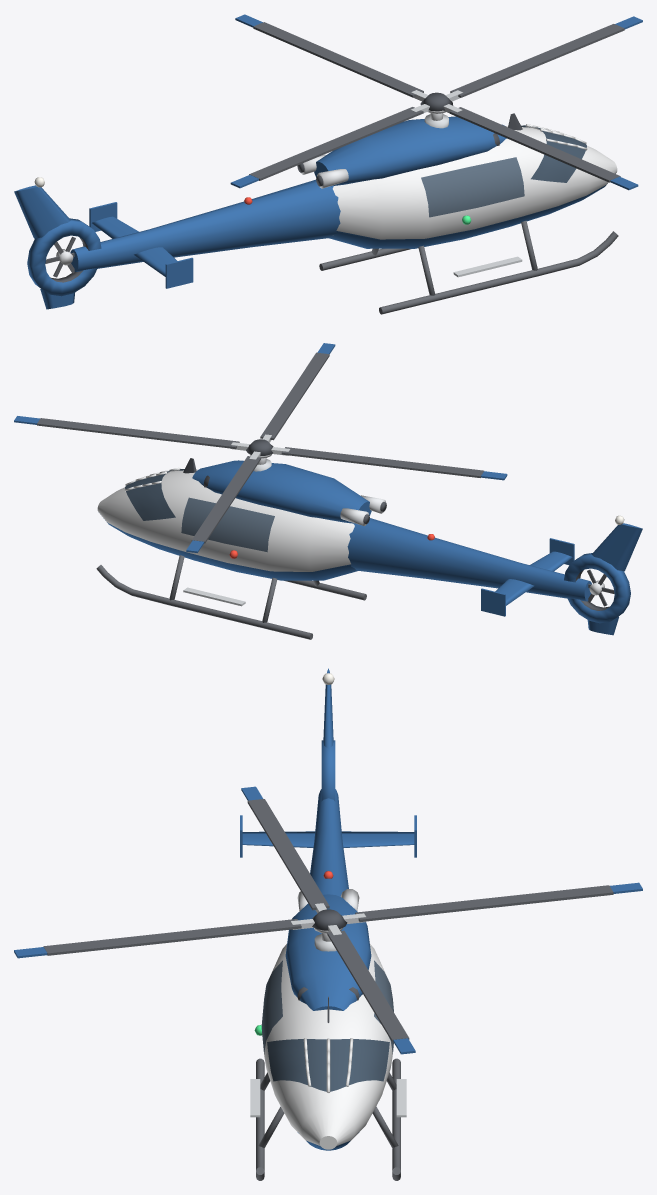
File: helicopter.glb
3 views of the same model, one above another, from view 1: azimuth 30°, elevation 25°; view 2: azimuth 150°, elevation 25°; view 3: azimuth 270°, elevation 25° (orthographic). The views are drawn at different scales.
Parts seen in each view (by area): view 1: BodyMesh, MainRotor, TailRotor; view 2: BodyMesh, MainRotor, TailRotor; view 3: BodyMesh, MainRotor.
Part boxes in pixels (x1,y1,x2,y2): BodyMesh: (14,113,618,314); MainRotor: (230,14,642,190); TailRotor: (45,236,75,277); BodyMesh: (96,458,642,639); MainRotor: (14,343,507,552); TailRotor: (587,569,614,606); BodyMesh: (240,668,416,1180); MainRotor: (14,786,642,1054).
Bounding box in the file's own units: 13.84 × 3.82 × 9.96.
